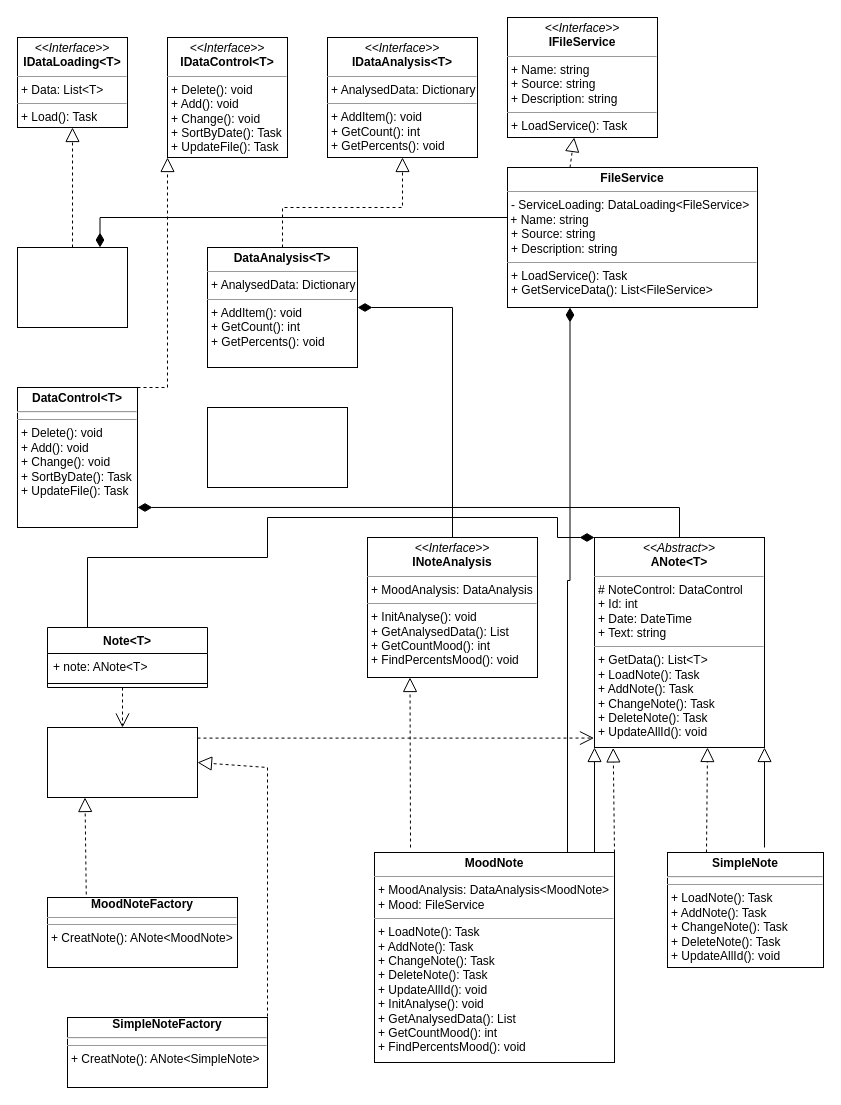
Image size: 841x1105. Some labels were removed from this diagram. The shapes that lost their labels are listed below. From the top down, each one's box as (x1, y1, x2, y2) in pixels, then its label:
(16, 246, 128, 328): DataLoading<T> + Data: List<T> + Load(): Task
(206, 406, 348, 488): GenericComparer <T> - SortColumn: string + Compare(): int
(46, 726, 198, 798): <<Interface>> INoteFactory<T> + CreatNote(): ANote<T>
